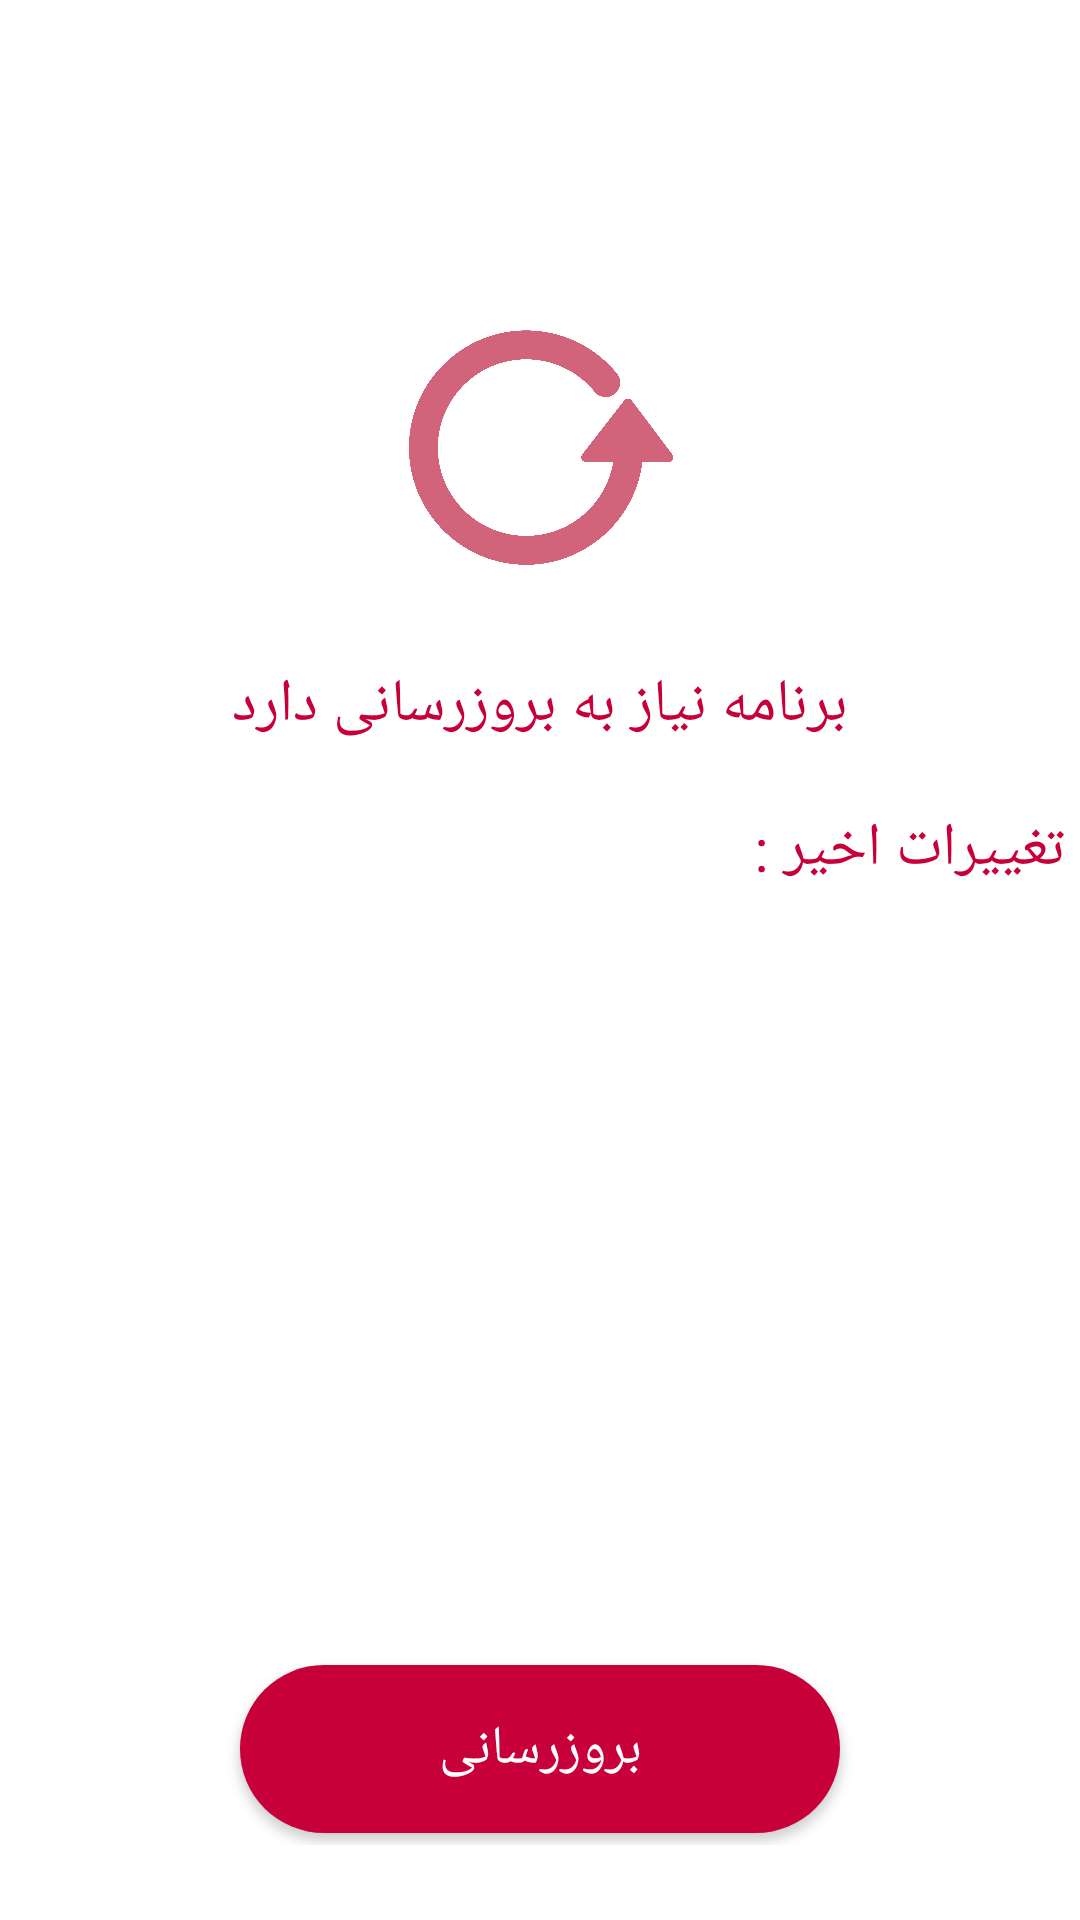

Named icons in this screenshot (1080 x 1920) and their bounding boxes, (x1, y1, x2, y2):
iconupdate: (409, 330, 673, 565)
